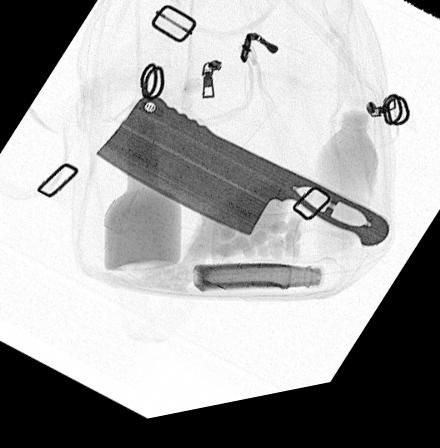Knife: (94, 100, 389, 261)
